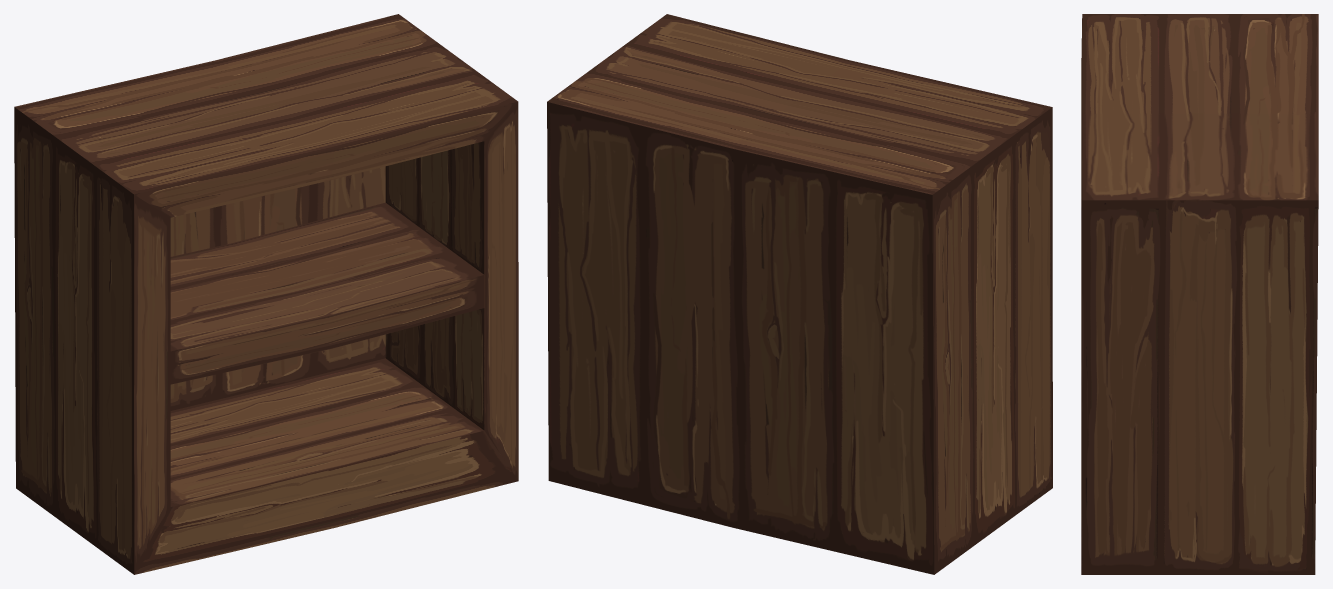
File: SM_PROP_cabinet_interior_06.fbx
The picture shows the model from 3 angles, left to right: view 1: azimuth 30°, elevation 25°; view 2: azimuth 150°, elevation 25°; view 3: azimuth 270°, elevation 25°; orthographic projection.
Parts seen in each view (by area): view 1: SM_PROP_cabinet_interior_06; view 2: SM_PROP_cabinet_interior_06; view 3: SM_PROP_cabinet_interior_06.
Part boxes in pixels (bbox=[...]): SM_PROP_cabinet_interior_06: bbox=[14, 14, 518, 574]; SM_PROP_cabinet_interior_06: bbox=[547, 14, 1052, 574]; SM_PROP_cabinet_interior_06: bbox=[1081, 14, 1318, 574].
Bounding box in the file's own units: 100 × 94.98 × 54.08.
